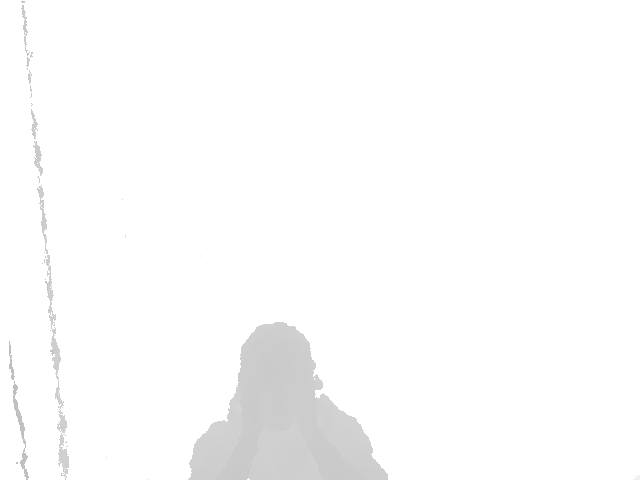head: (239, 322, 317, 439)
person: (187, 320, 391, 480)
